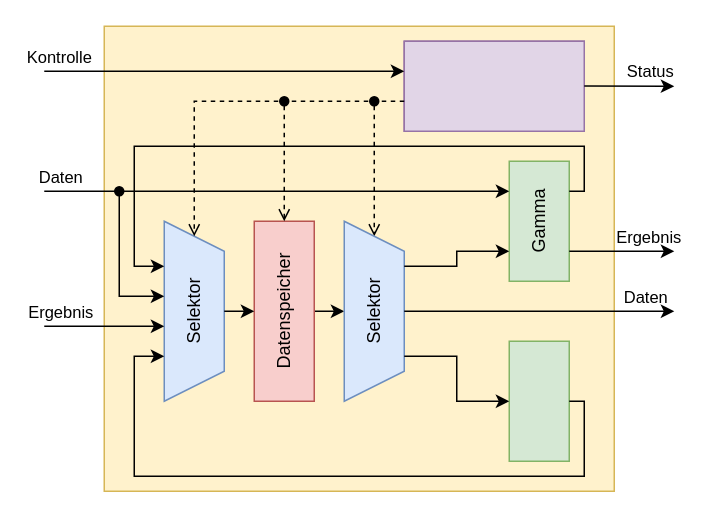
The diagram is 713 pixels wide and 518 high, and some of its shapes have lost their labels. Here are the shapes that lost their labels. From the top down, the box of each, then its label:
(403, 40, 584, 131): Zustandsautomat
(508, 340, 569, 461): Rho
